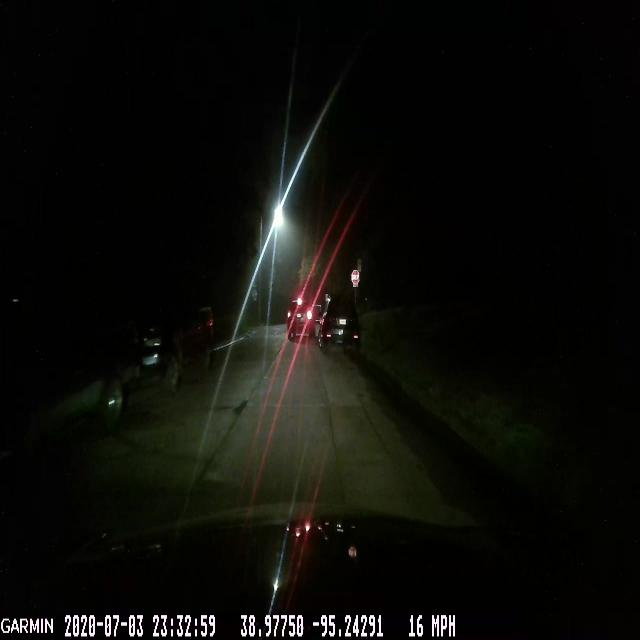Pothole: (226, 392, 254, 422)
